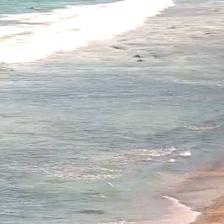surfer: (29, 6, 42, 11)
